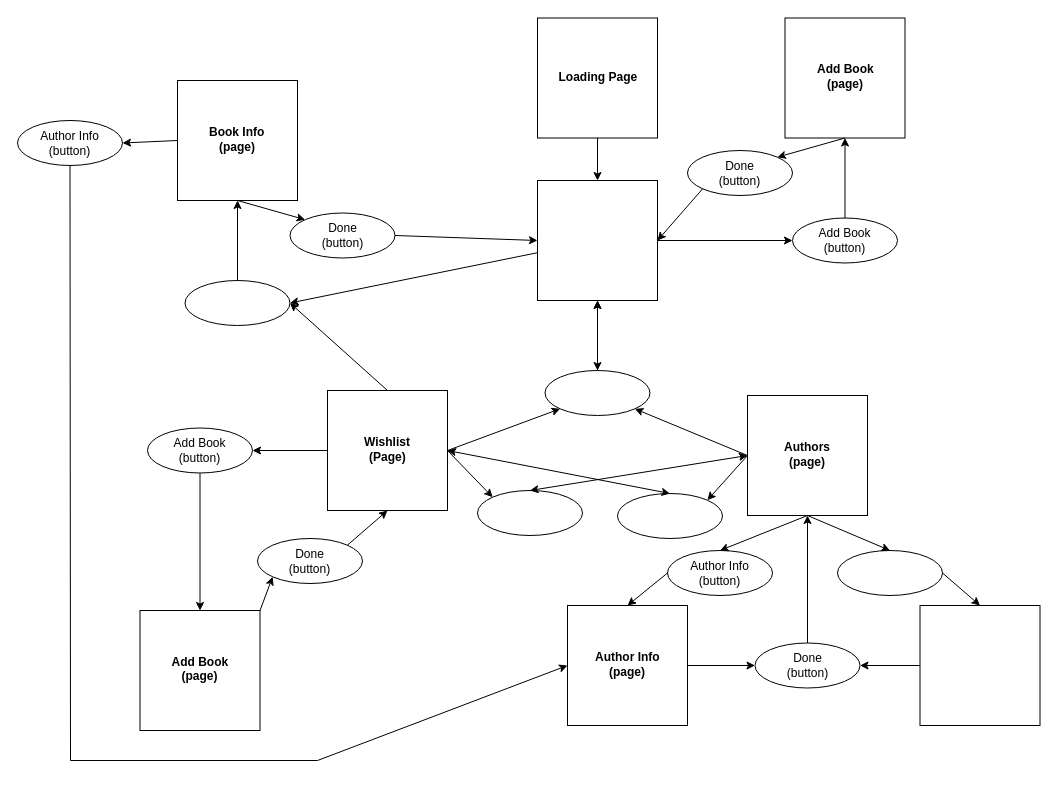
Image size: 1058x786. Some labels were removed from this diagram. Each missing label, with the centre of its shape:
"Add Author (button)" goes at (889,573).
"Add Author (page)" goes at (979,665).
"Authors (button)" goes at (529,513).
"Book Info (button)" goes at (237,303).
"Library (button)" goes at (597,393).
"Library (page) (default home screen)" goes at (597,240).
"Wishlist (button)" goes at (669,515).
